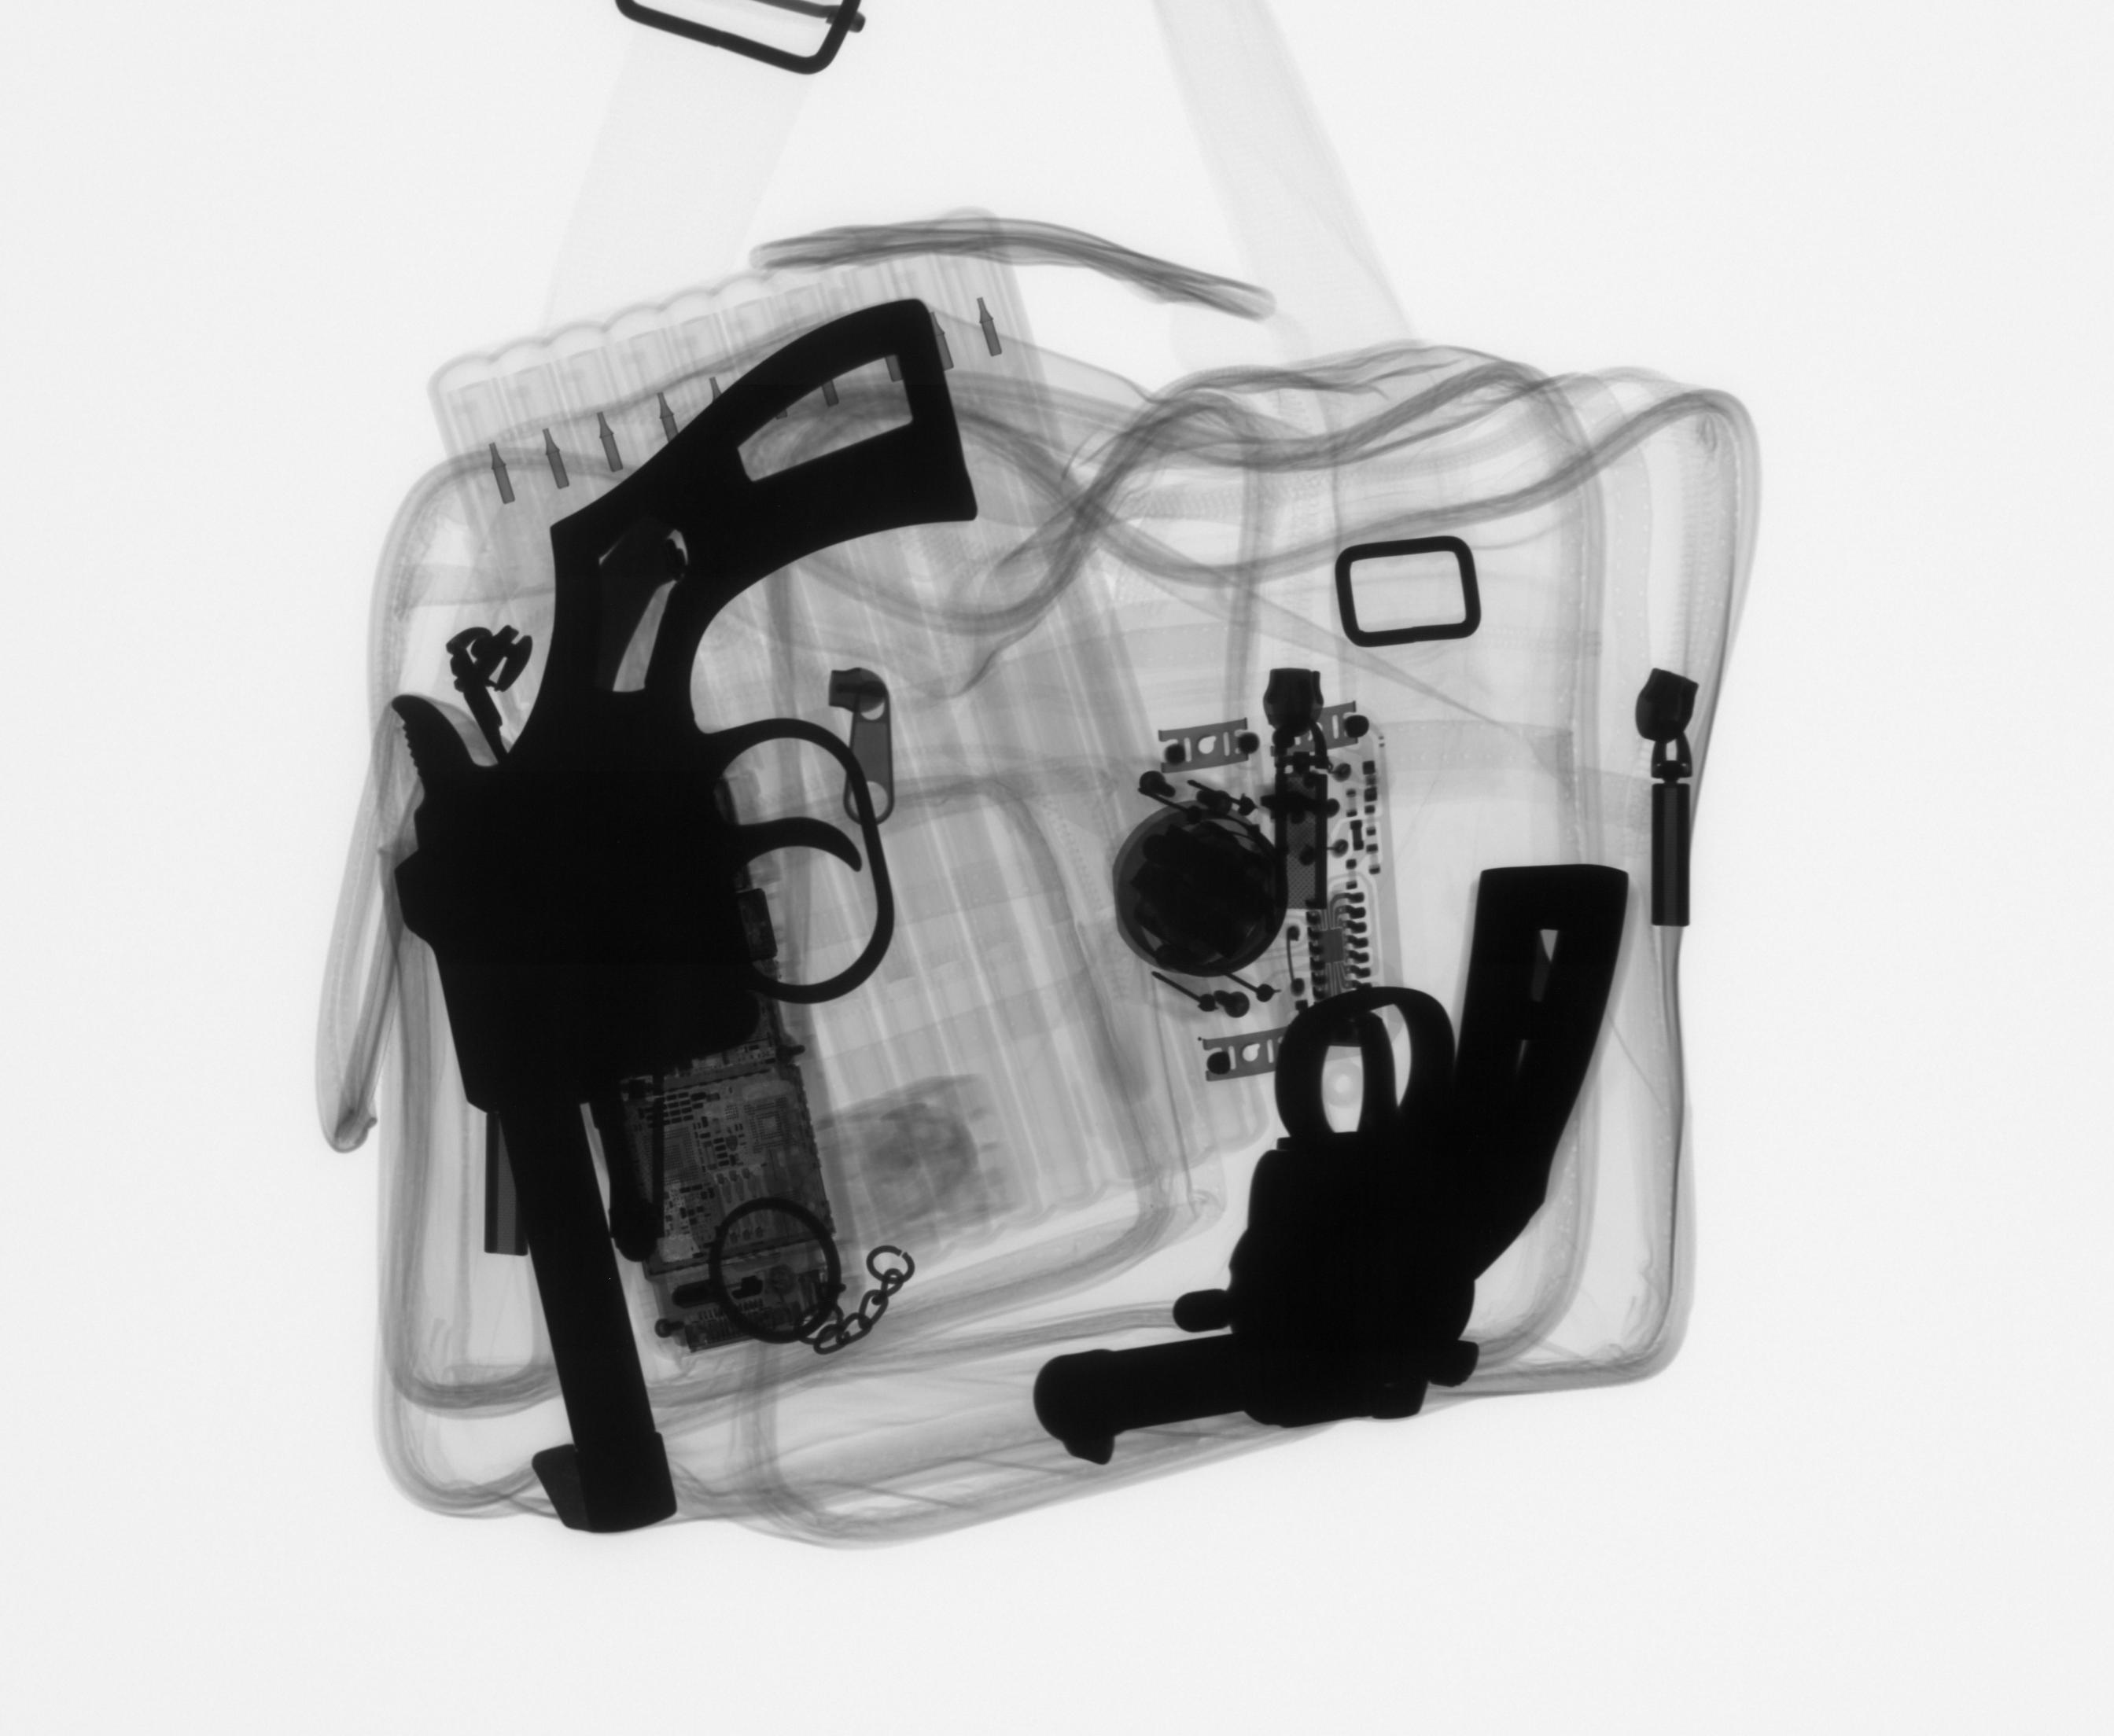Handgun: (380, 292, 985, 1540), (1021, 857, 1635, 1477)
